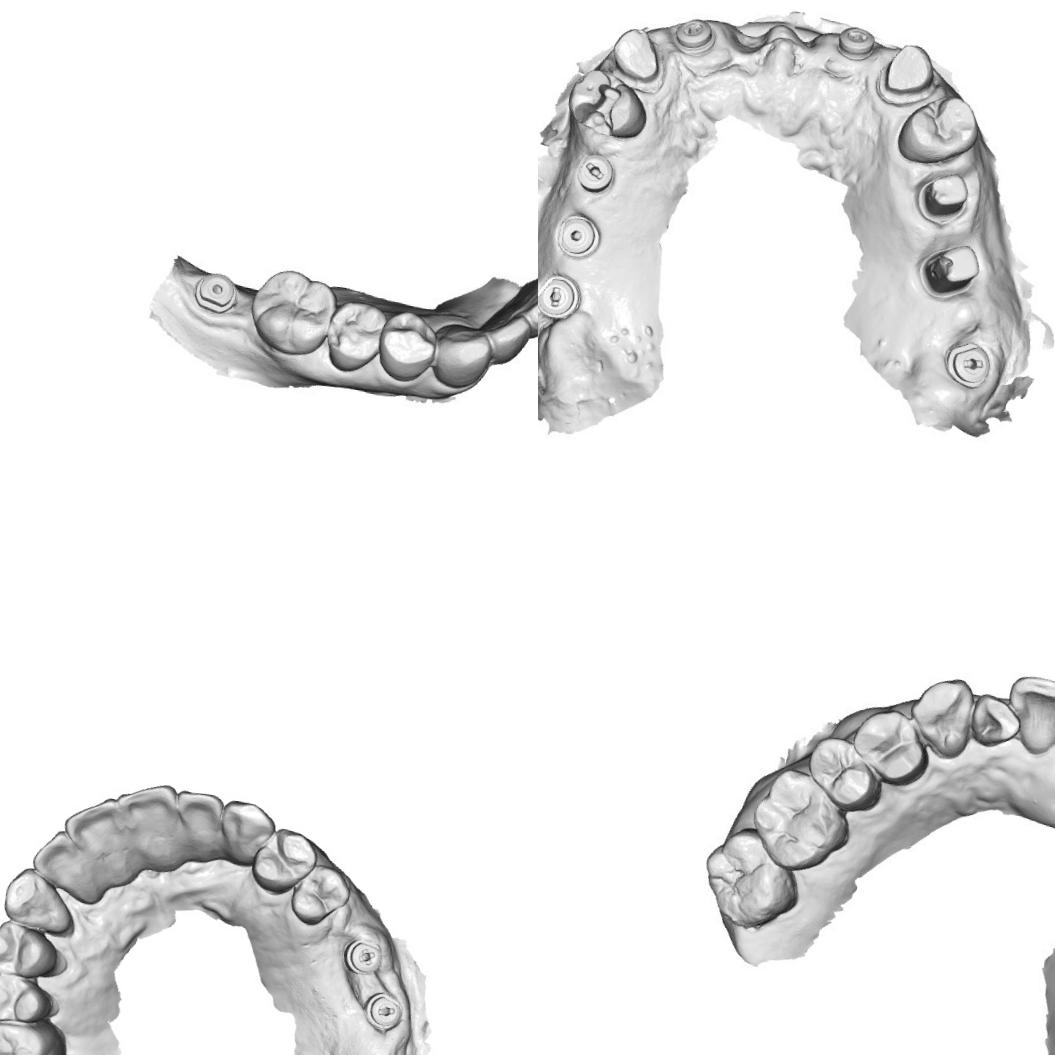abutment: (914, 238, 984, 304), (912, 167, 972, 229)
canine: (906, 673, 979, 762), (0, 864, 75, 940), (428, 316, 498, 392), (212, 796, 280, 870)
crown: (878, 40, 941, 106), (606, 24, 666, 89)
implant: (186, 260, 242, 328), (554, 210, 602, 260)
implant_minus: (939, 336, 997, 394), (538, 270, 583, 325), (573, 148, 620, 198), (830, 22, 882, 66), (362, 988, 408, 1034), (671, 15, 719, 59)
implant_plus: (340, 932, 387, 980)
incisor: (109, 777, 184, 861), (57, 790, 131, 875), (28, 824, 100, 900), (168, 787, 230, 853), (1007, 673, 1055, 758), (967, 689, 1025, 750), (486, 310, 536, 366), (518, 281, 538, 342)
inlay: (569, 76, 628, 140)
molar: (744, 767, 858, 877), (695, 828, 805, 936), (249, 266, 334, 358), (0, 1014, 72, 1055)
premolar: (892, 88, 984, 171), (847, 706, 931, 790), (803, 732, 882, 815), (248, 823, 322, 901), (375, 307, 444, 384), (286, 857, 356, 931), (327, 298, 384, 374), (0, 917, 64, 982), (0, 968, 66, 1029)
